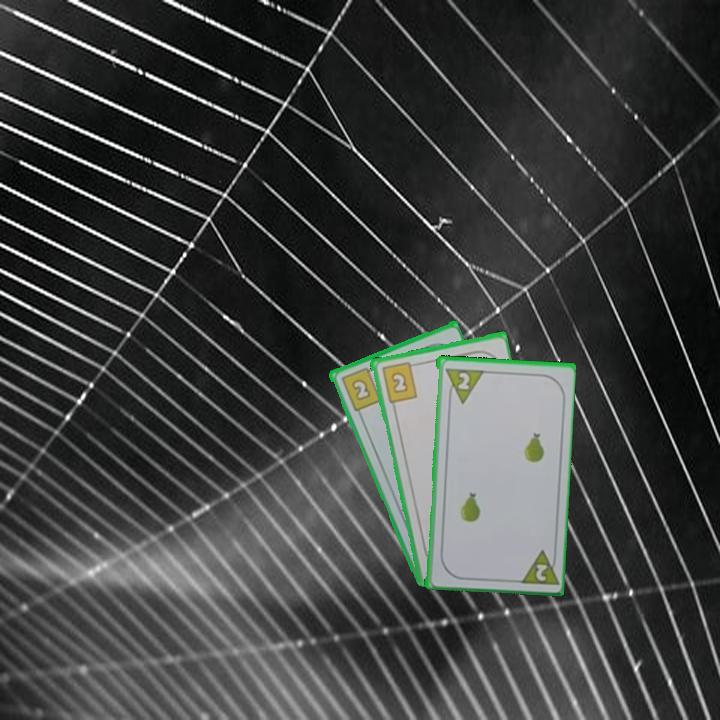2b: (337, 363, 383, 414), (378, 358, 420, 405)
2p: (515, 546, 559, 588), (441, 364, 484, 406)
